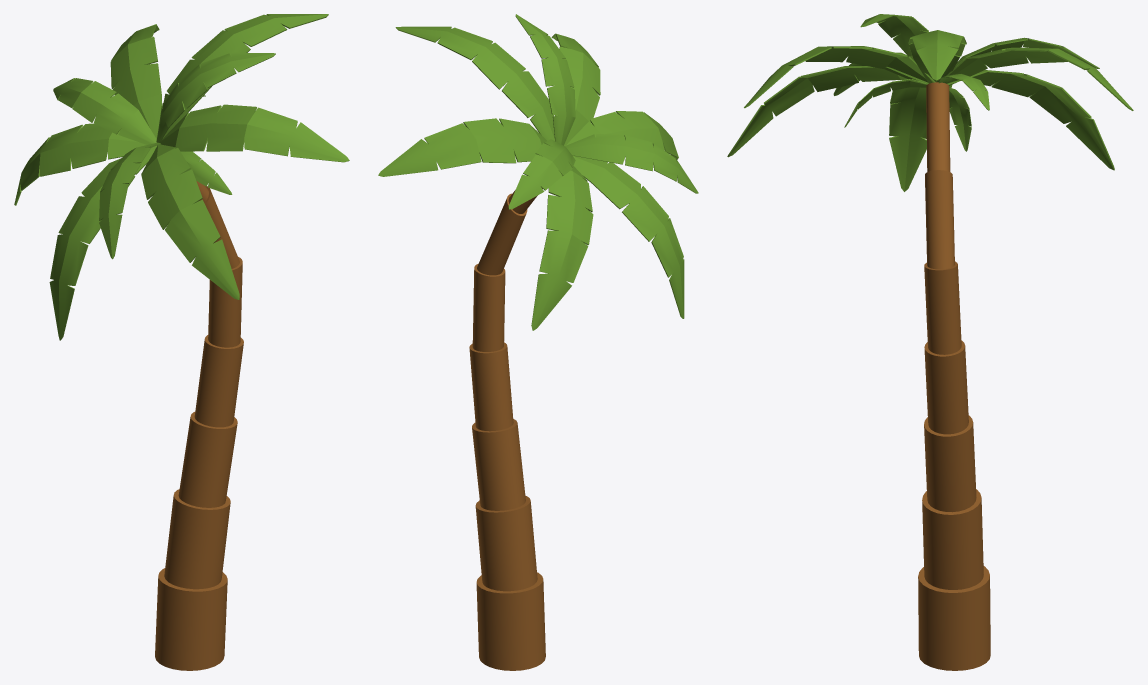
The model's file is Palm1.fbx.
3 views of the same model, side by side, from view 1: azimuth 30°, elevation 25°; view 2: azimuth 150°, elevation 25°; view 3: azimuth 270°, elevation 25° (orthographic). The views are drawn at different scales.
Parts seen in each view (by area): view 1: Palm; view 2: Palm; view 3: Palm.
Part boxes in pixels (x1,y1,x2,y2): Palm: (14, 14, 349, 670); Palm: (378, 14, 698, 670); Palm: (727, 14, 1133, 670).
Size of the model in its own units: 248 by 520 by 295.
